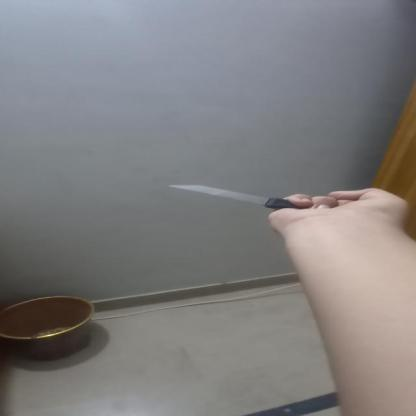Knife: (152, 180, 352, 211)
